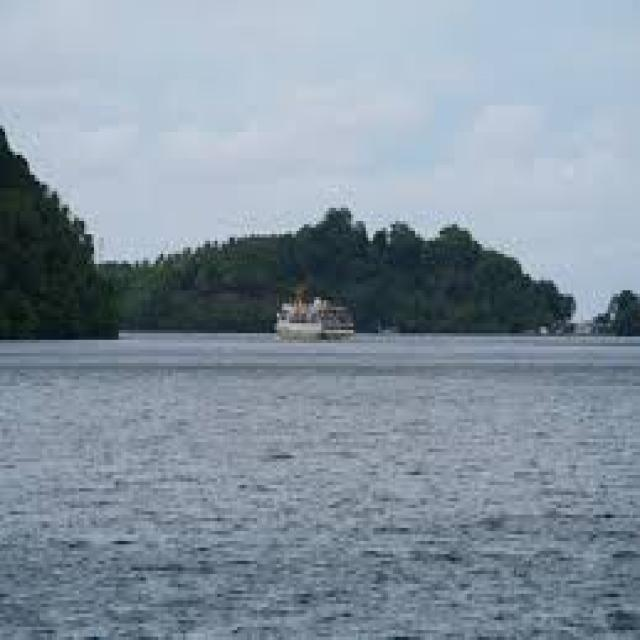fishing boat: (269, 284, 356, 340)
